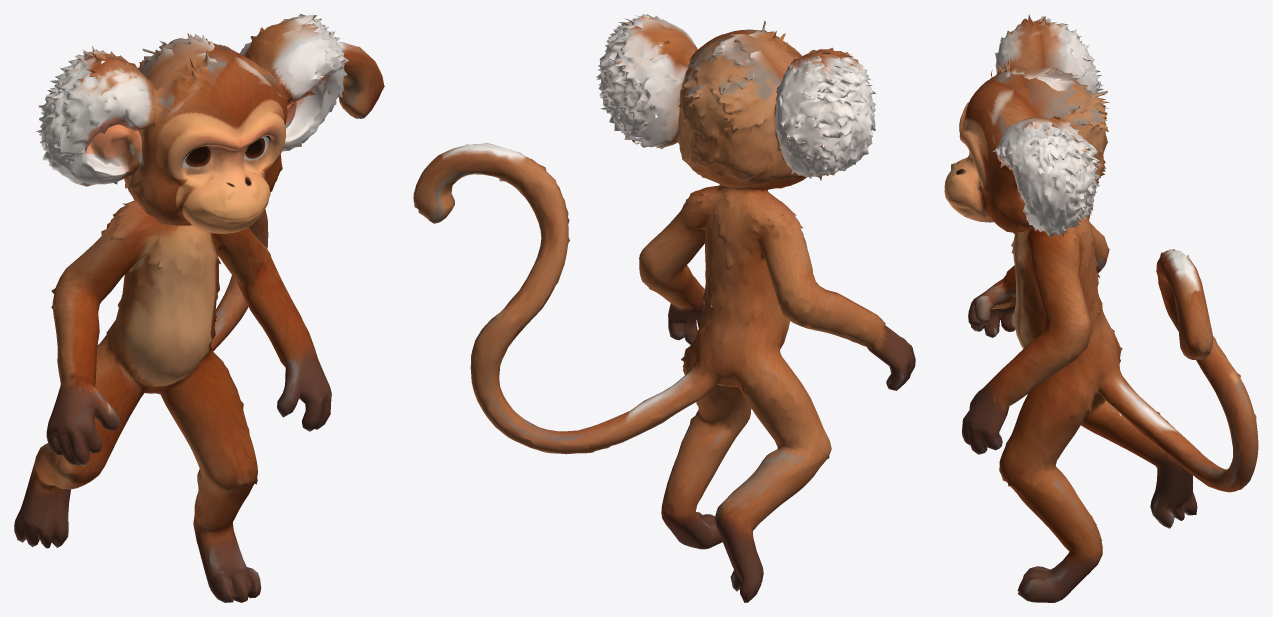
Rendered from xingxing-uuActXAZ.glb.
The picture shows the model from 3 angles, left to right: view 1: azimuth 30°, elevation 25°; view 2: azimuth 150°, elevation 25°; view 3: azimuth 270°, elevation 25°; orthographic projection. The views are drawn at different scales.
Visible parts, largest first — view 1: tripo_node_20c244a7-4675-4829-8006-ca856586900f; view 2: tripo_node_20c244a7-4675-4829-8006-ca856586900f; view 3: tripo_node_20c244a7-4675-4829-8006-ca856586900f.
Part boxes in pixels (box(x1,y1,x2,y2)): tripo_node_20c244a7-4675-4829-8006-ca856586900f: box(14, 14, 384, 602); tripo_node_20c244a7-4675-4829-8006-ca856586900f: box(413, 14, 915, 602); tripo_node_20c244a7-4675-4829-8006-ca856586900f: box(944, 14, 1258, 602).
Bounding box in the file's own units: 0.7928 × 0.9988 × 0.5476.
1 material, 1 textured.
